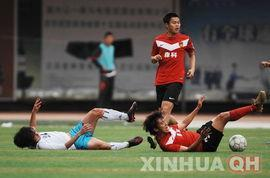Fall-Detected: (138, 83, 266, 152)
